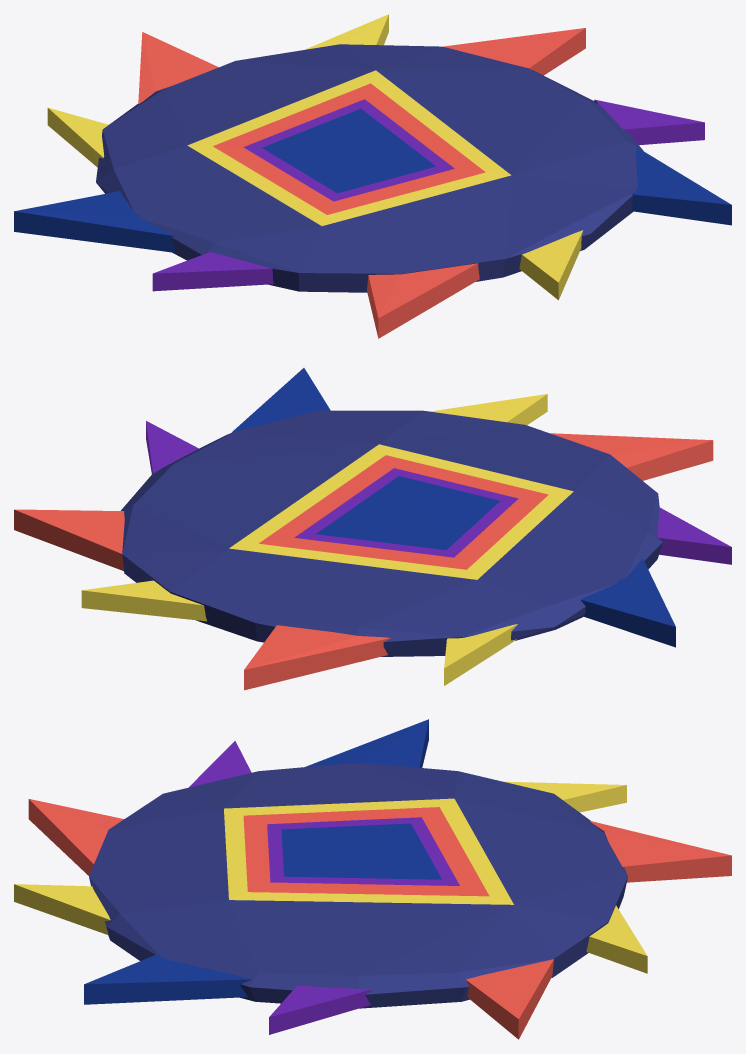
Rendered from RazorPog.fbx.
3 views of the same model, one above another, from view 1: azimuth 30°, elevation 25°; view 2: azimuth 150°, elevation 25°; view 3: azimuth 270°, elevation 25° (orthographic).
Parts seen in each view (by area): view 1: RazorPog.008; view 2: RazorPog.008; view 3: RazorPog.008.
Part boxes in pixels (bbox=[...]): RazorPog.008: bbox=[14, 14, 731, 338]; RazorPog.008: bbox=[14, 368, 731, 690]; RazorPog.008: bbox=[14, 719, 731, 1039].
Size of the model in its own units: 122 by 8.6 by 123.
